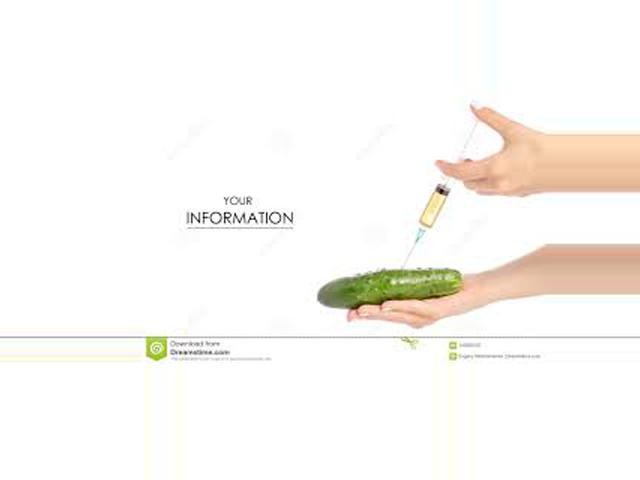cucumber: (317, 269, 462, 308)
